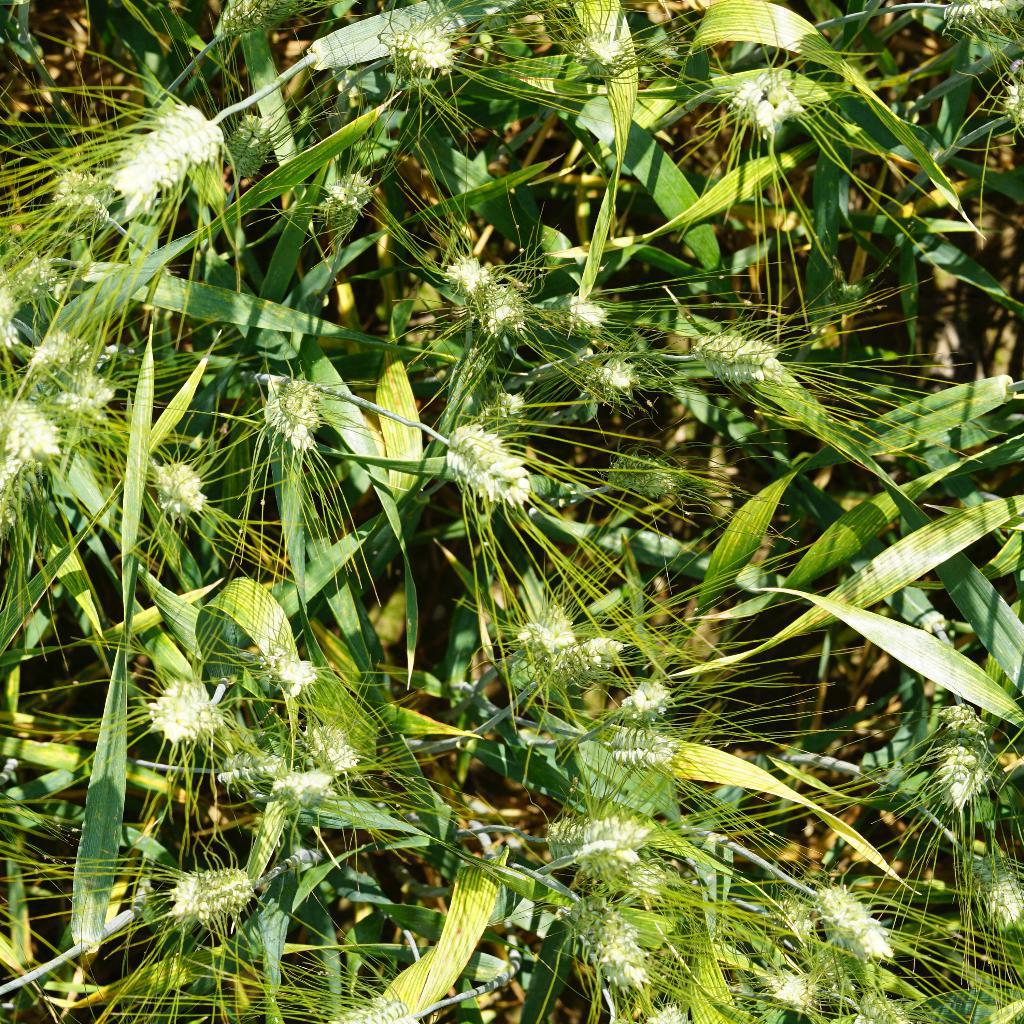0-0: (81, 73, 243, 212), (535, 796, 662, 881), (428, 419, 538, 515), (807, 878, 908, 967), (568, 904, 668, 993), (668, 324, 777, 397), (167, 851, 269, 927), (940, 690, 1002, 807), (731, 64, 823, 137), (957, 836, 1024, 930), (258, 374, 331, 459), (144, 677, 221, 757), (533, 631, 642, 686), (596, 449, 690, 508), (382, 15, 456, 89), (38, 369, 129, 428), (590, 714, 677, 773), (261, 757, 351, 814), (201, 0, 326, 41), (605, 677, 703, 728), (141, 453, 212, 522), (754, 893, 825, 961), (318, 985, 441, 1024), (426, 238, 503, 299), (575, 347, 651, 408), (49, 167, 120, 232), (26, 317, 101, 378), (570, 27, 639, 92), (211, 741, 296, 793), (0, 396, 63, 466), (223, 109, 281, 185), (311, 172, 381, 234), (0, 247, 70, 308), (256, 646, 332, 702), (561, 833, 653, 879), (501, 598, 574, 651), (473, 276, 533, 339), (926, 0, 1024, 37), (467, 388, 534, 441), (552, 286, 616, 339), (303, 722, 366, 766), (0, 464, 38, 535), (766, 964, 821, 1009), (453, 341, 493, 385), (825, 277, 872, 314)
